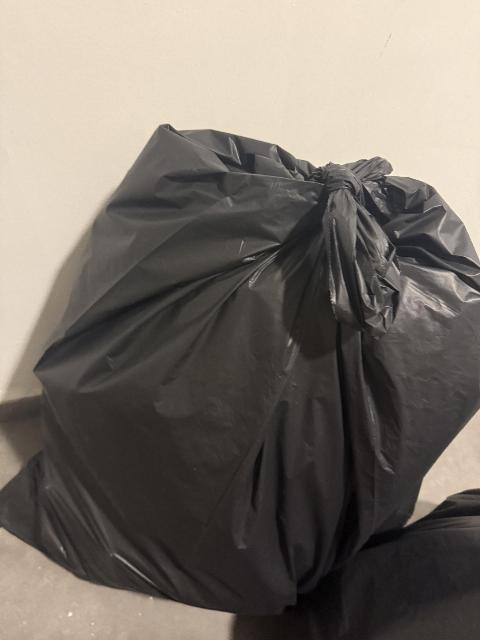Plastik: (4, 129, 480, 588)
